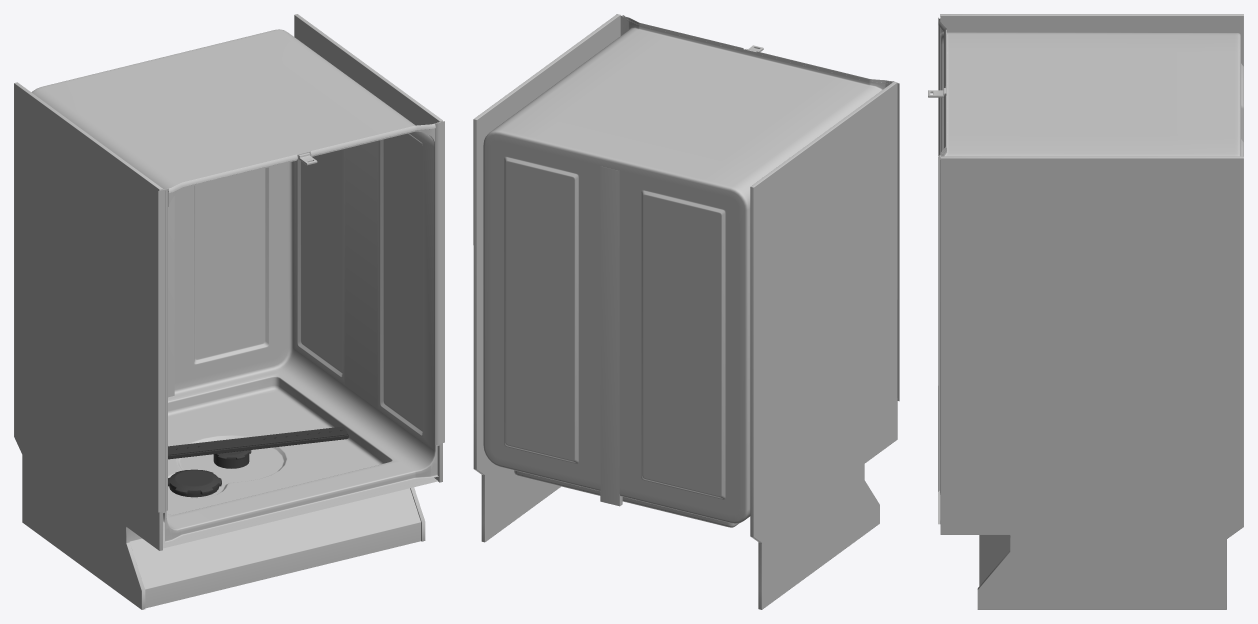
Rendered from SM_Dishwasher_Base.dae.
The picture shows the model from 3 angles, left to right: view 1: azimuth 30°, elevation 25°; view 2: azimuth 150°, elevation 25°; view 3: azimuth 270°, elevation 25°; orthographic projection. The views are drawn at different scales.
Parts seen in each view (by area): view 1: SM_Dishwasher_Base; view 2: SM_Dishwasher_Base; view 3: SM_Dishwasher_Base.
Boxes of the visible parts, x1,y1,x2,y2 form: SM_Dishwasher_Base: [14, 14, 444, 609]; SM_Dishwasher_Base: [473, 14, 899, 609]; SM_Dishwasher_Base: [928, 14, 1243, 609].
Bounding box in the file's own units: 0.584 × 0.5347 × 0.8439.
